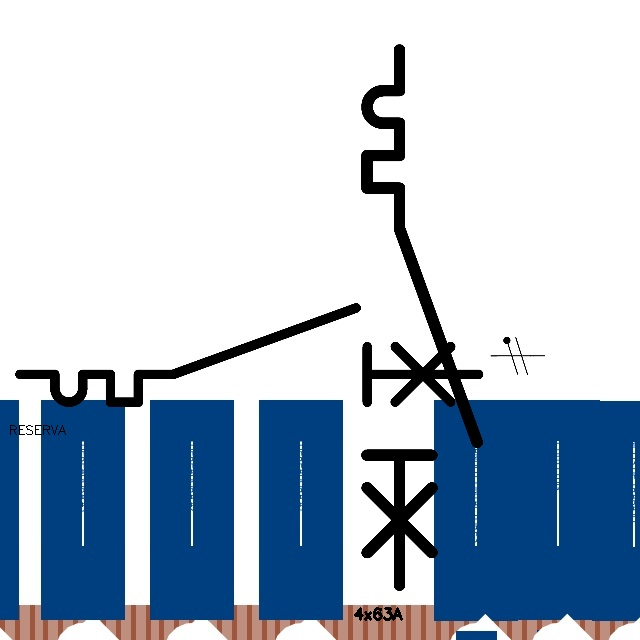interruptor_termomagnetico: (353, 36, 491, 599), (8, 296, 490, 414)
